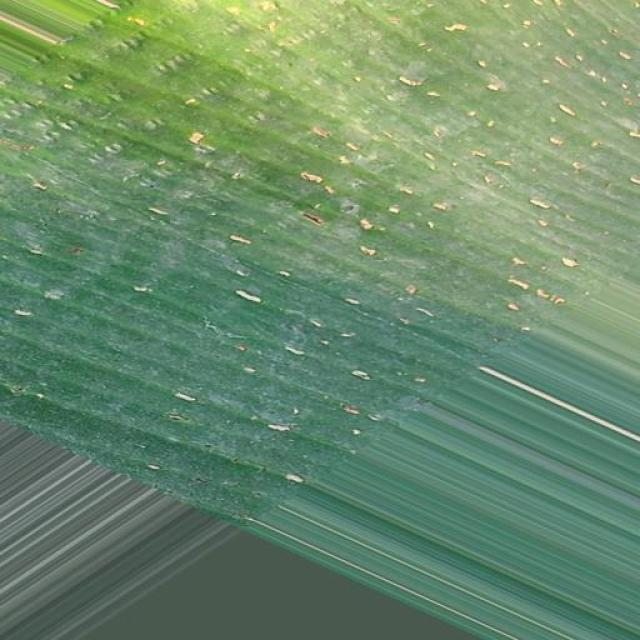Black_rot: (1, 9, 640, 479)
